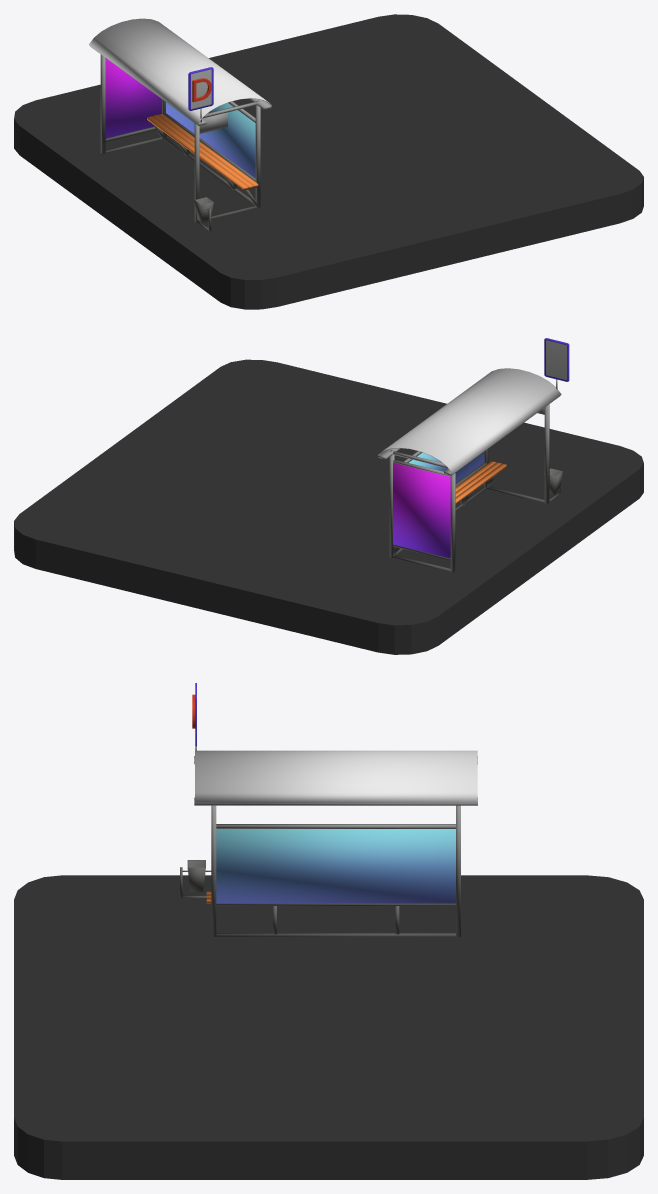
The model's file is BusStop.fbx.
3 renders of one model, top to bottom at view 1: azimuth 30°, elevation 25°; view 2: azimuth 150°, elevation 25°; view 3: azimuth 270°, elevation 25°, orthographic. The views are drawn at different scales.
Parts seen in each view (by area): view 1: BusStop; view 2: BusStop; view 3: BusStop.
Part boxes in pixels (x1,y1,x2,y2): BusStop: [14, 14, 643, 309]; BusStop: [14, 338, 643, 654]; BusStop: [14, 683, 643, 1179].
Bounding box in the file's own units: 200 × 85.51 × 200.
